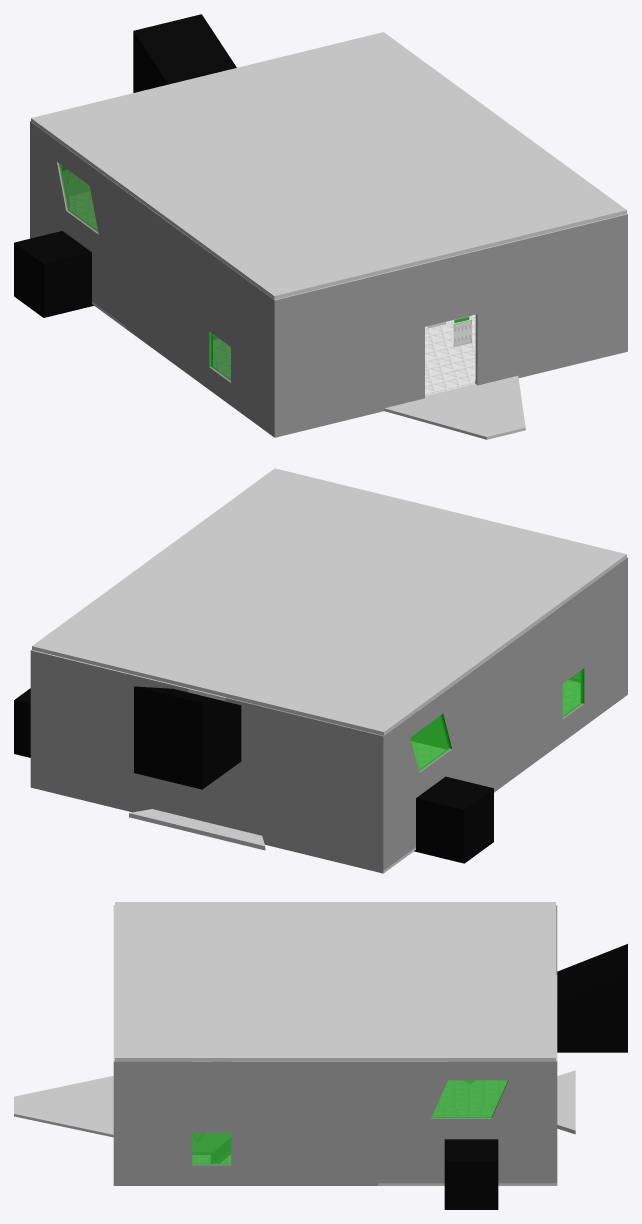
Rendered from SM_Level_1.fbx.
3 renders of one model, top to bottom at view 1: azimuth 30°, elevation 25°; view 2: azimuth 150°, elevation 25°; view 3: azimuth 270°, elevation 25°, orthographic. The views are drawn at different scales.
Visible parts, largest first — view 1: pasted__pCube40, pasted__polySurface34, pasted__pCube30, pasted__pCube32, pasted__polySurface12; view 2: pasted__pCube40, pasted__polySurface34, pasted__pCube32, pasted__pCube30, pasted__polySurface8, pasted__polySurface12, pasted__pCube31; view 3: pasted__pCube40, pasted__polySurface34, pasted__pCube32, pasted__pCube31, pasted__polySurface8, pasted__polySurface64, pasted__polySurface12.
Part boxes in pixels (x1,y1,x2,y2): pasted__pCube40: (31,32,626,299); pasted__polySurface34: (30,121,627,439); pasted__pCube30: (14,231,93,317); pasted__pCube32: (133,14,236,92); pasted__polySurface12: (70,192,97,229); pasted__pCube40: (32,468,626,735); pasted__polySurface34: (30,557,627,873); pasted__pCube32: (134,686,241,789); pasted__pCube30: (414,776,493,863); pasted__polySurface8: (129,809,265,850); pasted__polySurface12: (410,716,447,769); pasted__pCube31: (14,688,30,757); pasted__pCube40: (115,902,555,1163); pasted__polySurface34: (14,905,557,1185); pasted__pCube32: (557,944,627,1052); pasted__pCube31: (444,1139,498,1209); pasted__polySurface8: (557,1070,575,1134); pasted__polySurface64: (192,1133,230,1154); pasted__polySurface12: (432,1108,494,1116).
Size of the model in its own units: 125 by 44.2 by 163.
23 materials, 6 textured.
